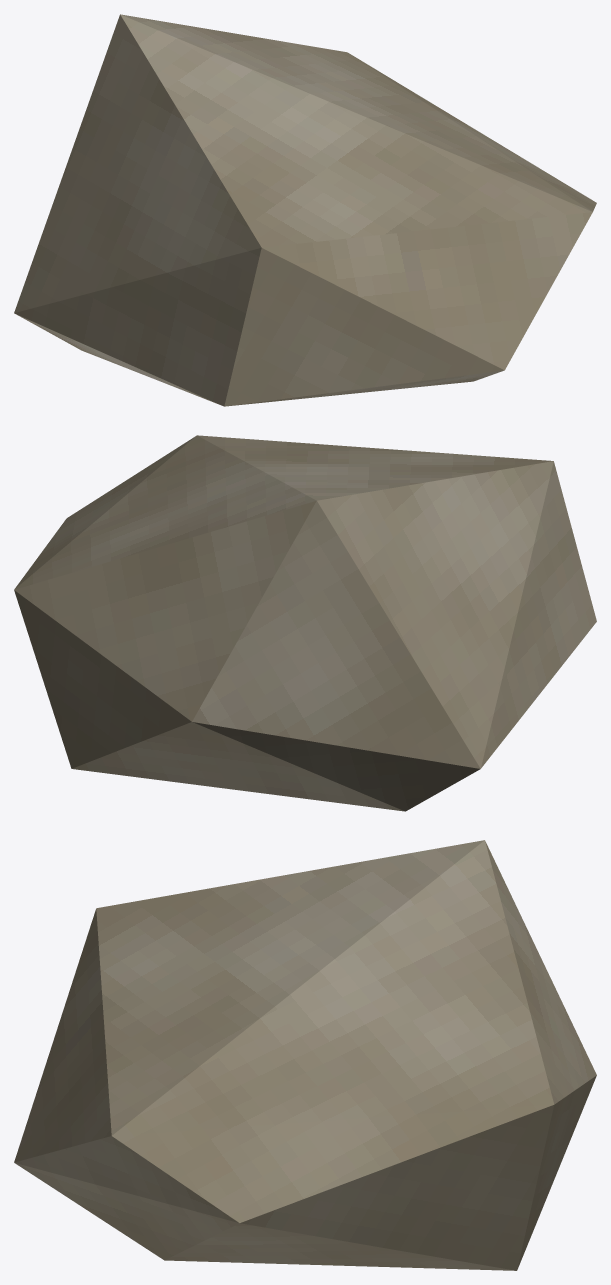
File: rock_circular3_fbx.fbx
3 views of the same model, one above another, from view 1: azimuth 30°, elevation 25°; view 2: azimuth 150°, elevation 25°; view 3: azimuth 270°, elevation 25° (orthographic). The views are drawn at different scales.
Parts seen in each view (by area): view 1: rock_circular3; view 2: rock_circular3; view 3: rock_circular3.
Part boxes in pixels (x1,y1,x2,y2): rock_circular3: (14,14,596,406); rock_circular3: (14,435,596,811); rock_circular3: (14,840,596,1270).
Size of the model in its own units: 176 by 104 by 173.
Materials: 1 (1 with a texture image).
